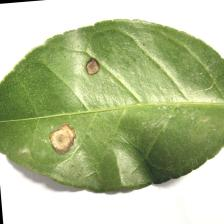canker: (36, 54, 108, 167)
